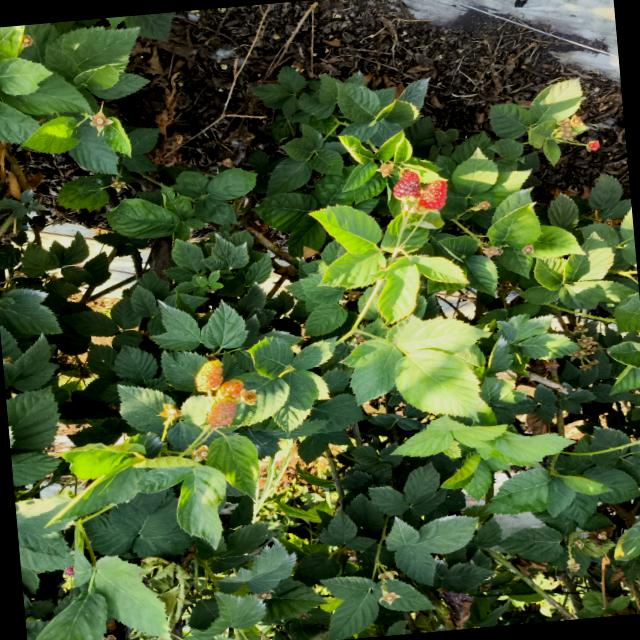naranja: (195, 359, 223, 392), (206, 397, 236, 427), (418, 180, 447, 210), (393, 170, 420, 198), (218, 378, 244, 400)
